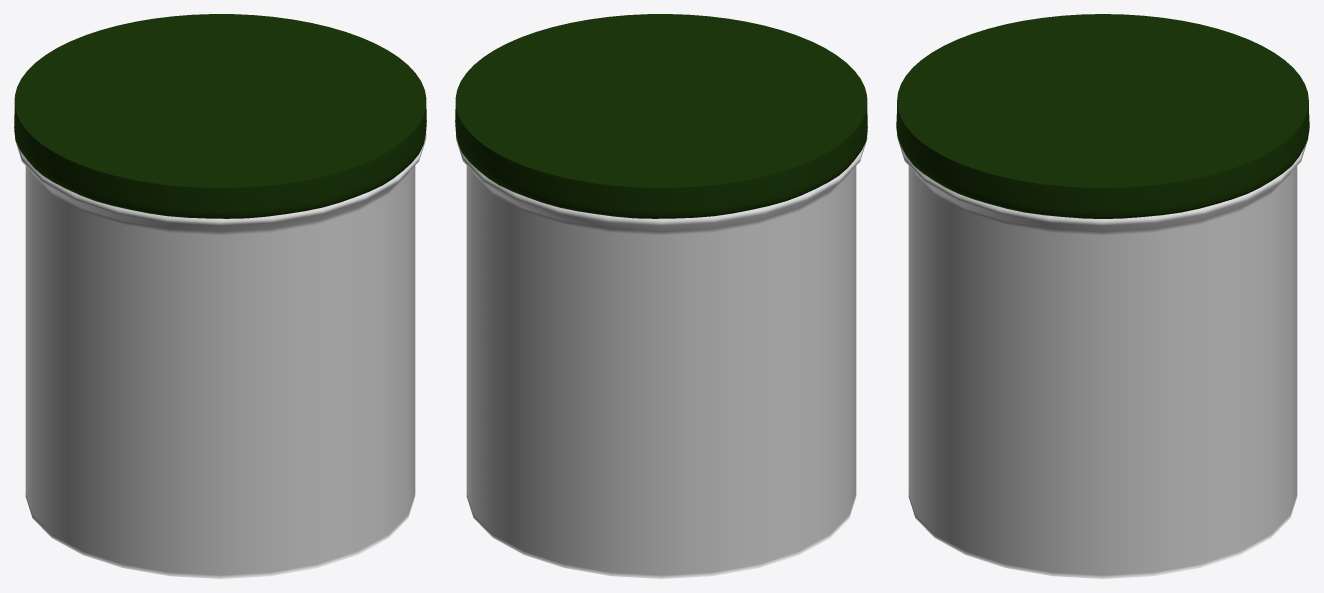
File: models_v1.glb
The picture shows the model from 3 angles, left to right: view 1: azimuth 30°, elevation 25°; view 2: azimuth 150°, elevation 25°; view 3: azimuth 270°, elevation 25°; orthographic projection.
Parts seen in each view (by area): view 1: Bottle, Cap; view 2: Bottle, Cap; view 3: Bottle, Cap.
Part boxes in pixels (x1,y1,x2,y2): Bottle: [15, 133, 426, 578]; Cap: [14, 14, 426, 218]; Bottle: [455, 133, 867, 578]; Cap: [455, 14, 867, 218]; Bottle: [897, 134, 1308, 578]; Cap: [896, 14, 1309, 218].
Bounding box in the file's own units: 0.108 × 0.114 × 0.108.
